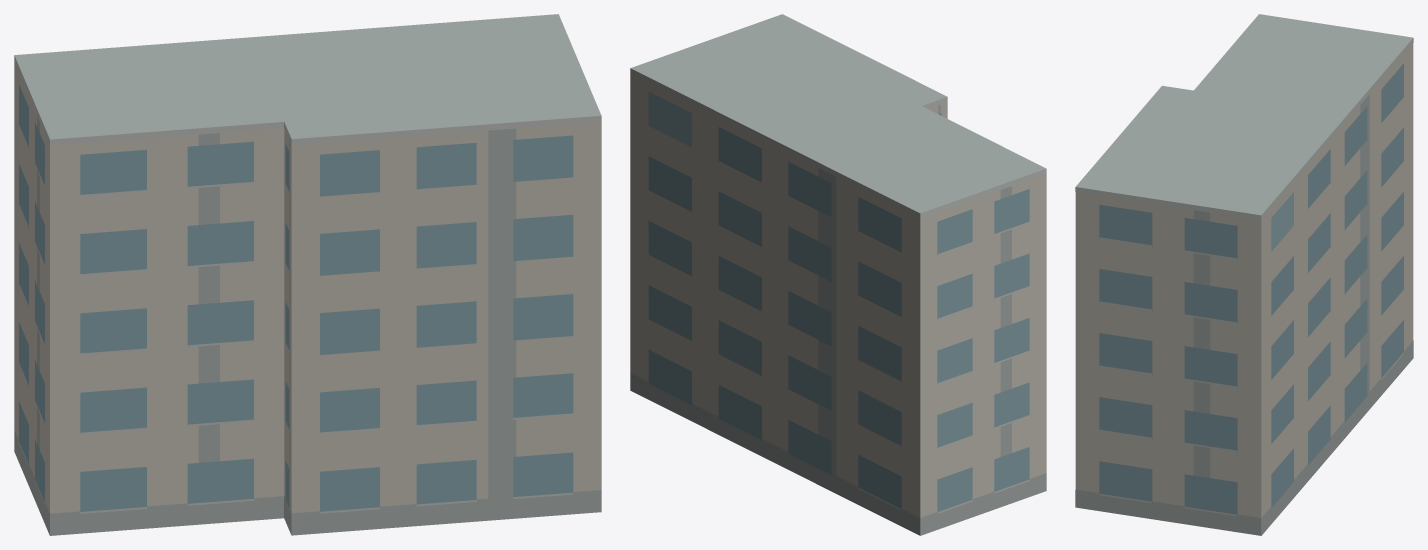
Rendered from residential-3dfa6ef3-3a2e-429d-ac8b-4c4f28831ac6.glb.
3 renders of one model, left to right at view 1: azimuth 30°, elevation 25°; view 2: azimuth 150°, elevation 25°; view 3: azimuth 270°, elevation 25°, orthographic. The views are drawn at different scales.
Parts seen in each view (by area): view 1: residential-3dfa6ef3-3a2e-429d-ac8b-4c4f28831ac6.tmp; view 2: residential-3dfa6ef3-3a2e-429d-ac8b-4c4f28831ac6.tmp; view 3: residential-3dfa6ef3-3a2e-429d-ac8b-4c4f28831ac6.tmp.
Boxes of the visible parts, x1=… form: residential-3dfa6ef3-3a2e-429d-ac8b-4c4f28831ac6.tmp: x1=14, y1=14, x2=601, y2=535; residential-3dfa6ef3-3a2e-429d-ac8b-4c4f28831ac6.tmp: x1=630, y1=14, x2=1046, y2=535; residential-3dfa6ef3-3a2e-429d-ac8b-4c4f28831ac6.tmp: x1=1075, y1=14, x2=1413, y2=535.
Bounding box in the file's own units: 20.55 × 15.25 × 14.58.
